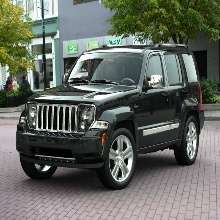no damage: (15, 45, 206, 188)
